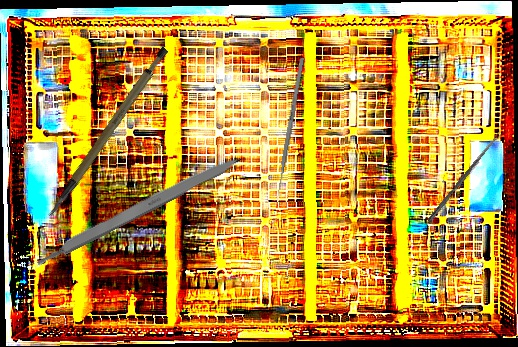Pusher: (274, 57, 305, 204)
Scalpel Handle: (22, 44, 190, 219), (32, 150, 244, 268)
Surgical Spoon: (427, 132, 502, 223)
